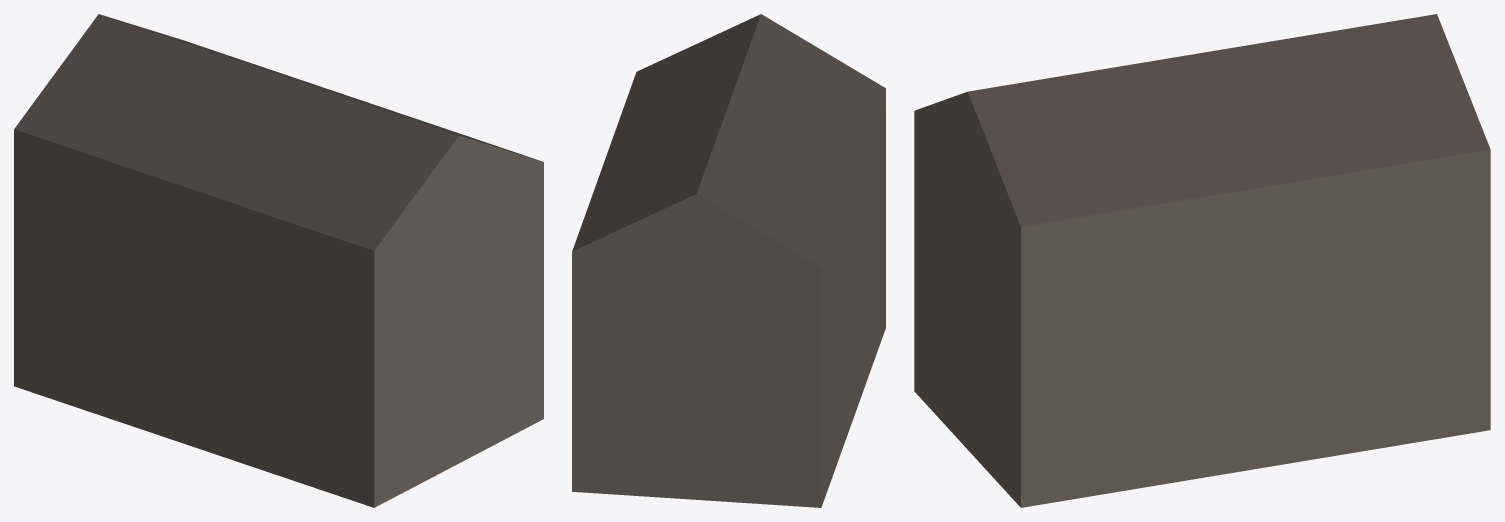
3 views of the same model, side by side, from view 1: azimuth 30°, elevation 25°; view 2: azimuth 150°, elevation 25°; view 3: azimuth 270°, elevation 25° (orthographic). The views are drawn at different scales.
Parts seen in each view (by area): view 1: HP-w389701899; view 2: HP-w389701899; view 3: HP-w389701899.
Part boxes in pixels (x1,y1,x2,y2): HP-w389701899: [14, 14, 543, 507]; HP-w389701899: [572, 14, 885, 507]; HP-w389701899: [914, 14, 1490, 507].
Size of the model in its own units: 8.89 by 7.65 by 11.15.
